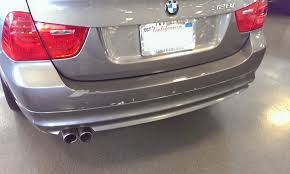Scratch: (63, 88, 90, 97), (108, 100, 132, 107)
